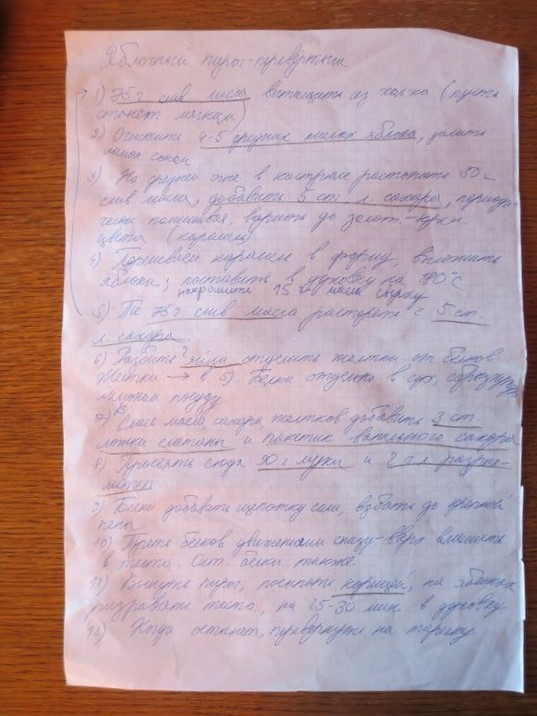page: (66, 32, 520, 689)
